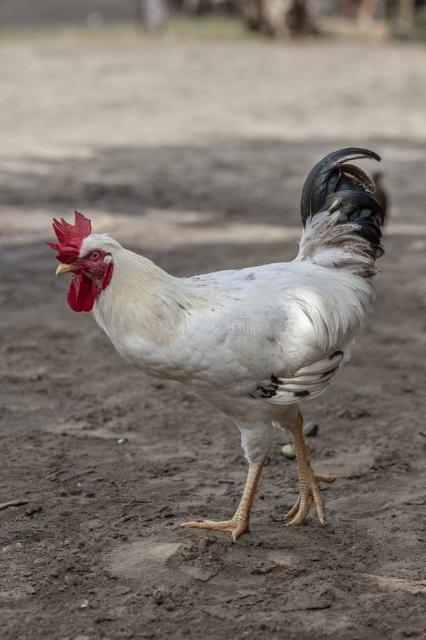Chicken: (48, 145, 388, 543)
